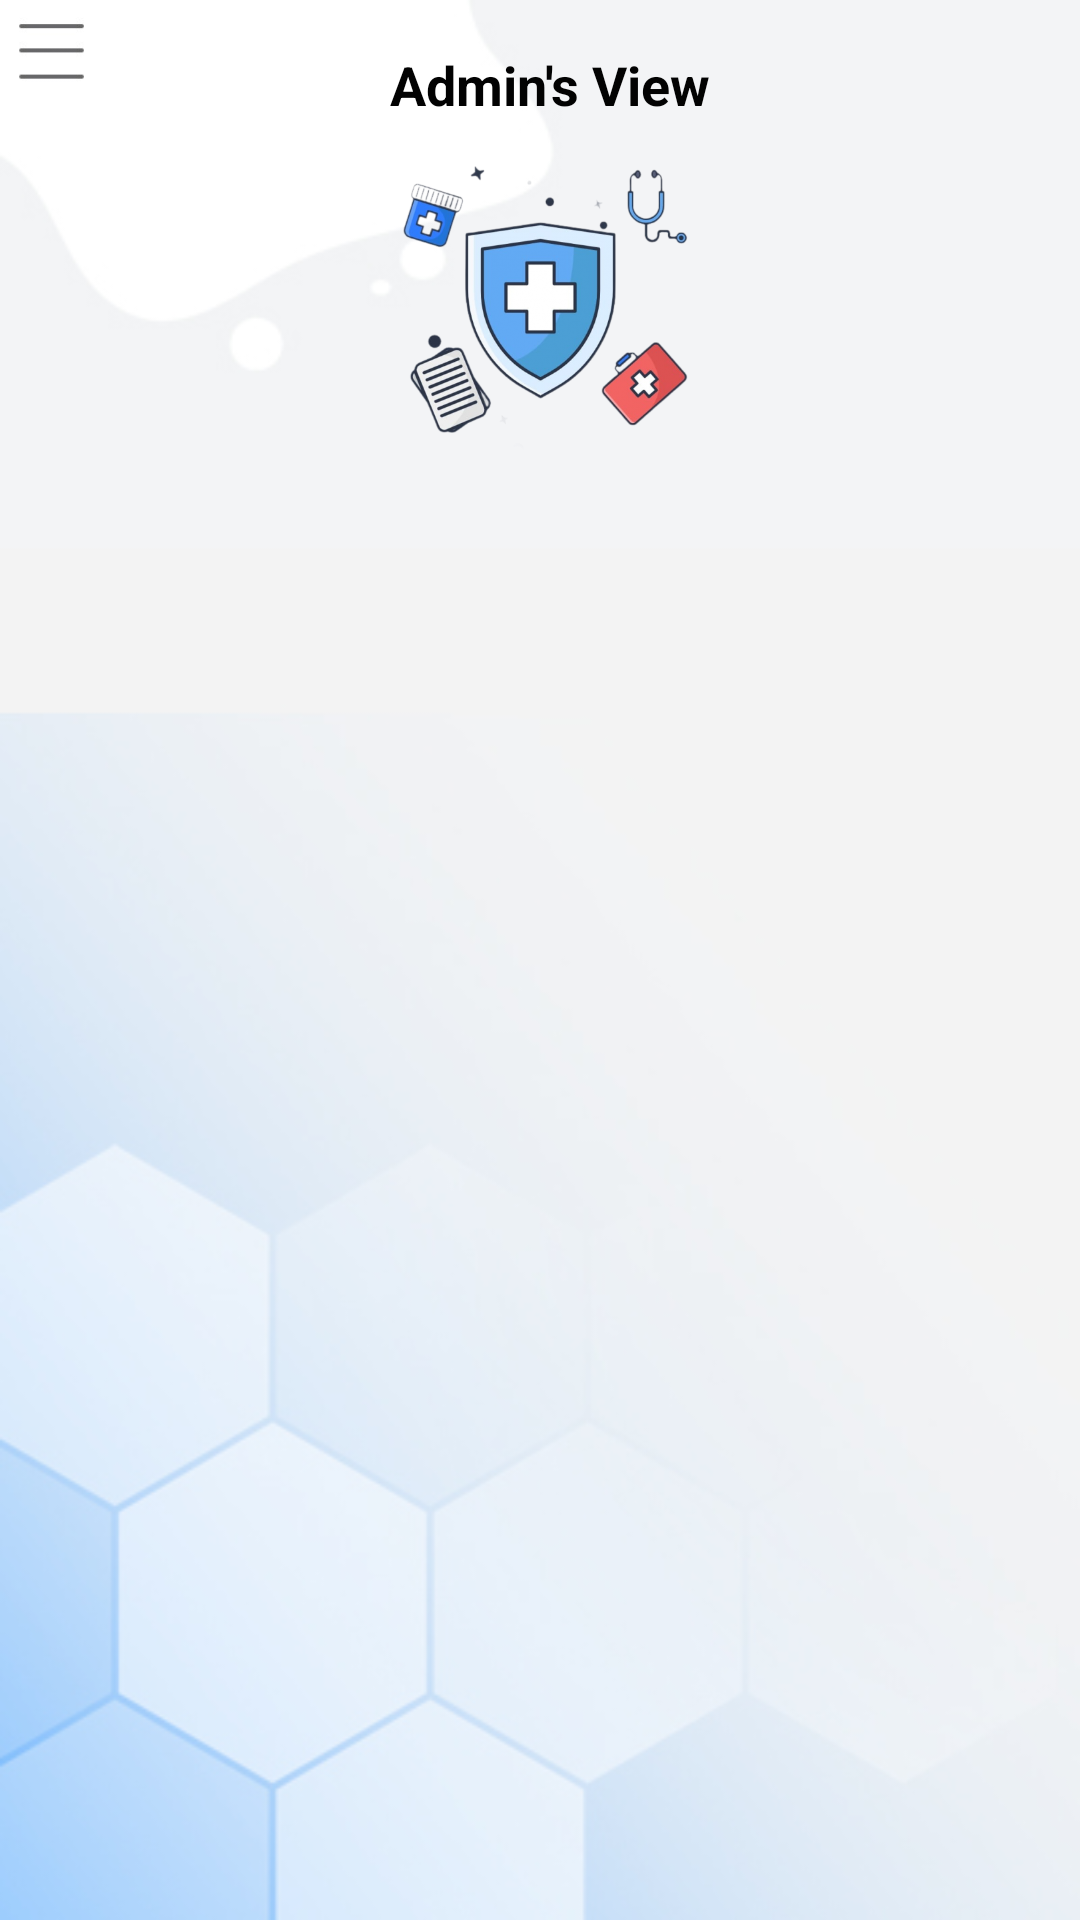

Where icons sit on this 1080x1920 app screen, as {"left": x1, "top": y1, "right": x2, "bottom": y2}:
menu: {"left": 19, "top": 24, "right": 84, "bottom": 79}
